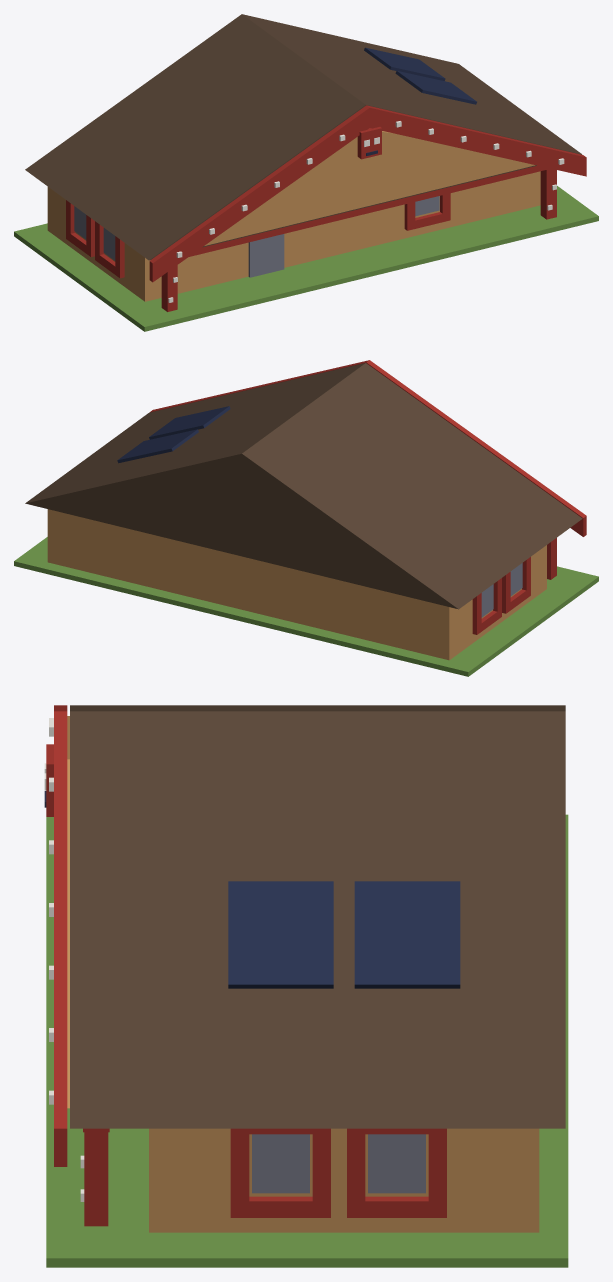
File: house-2x1-1f-whare-a-solar.glb
3 views of the same model, one above another, from view 1: azimuth 30°, elevation 25°; view 2: azimuth 150°, elevation 25°; view 3: azimuth 270°, elevation 25° (orthographic). The views are drawn at different scales.
Parts seen in each view (by area): view 1: house-2x1-1f-whare-a-solar; view 2: house-2x1-1f-whare-a-solar; view 3: house-2x1-1f-whare-a-solar.
Boxes of the visible parts, left/top/right/bottom form: house-2x1-1f-whare-a-solar: left=14, top=14, right=598, bottom=331; house-2x1-1f-whare-a-solar: left=14, top=360, right=598, bottom=676; house-2x1-1f-whare-a-solar: left=44, top=705, right=568, bottom=1267.
Size of the model in its own units: 1.99 by 0.7 by 0.993.
Materials: 1 (1 with a texture image).
